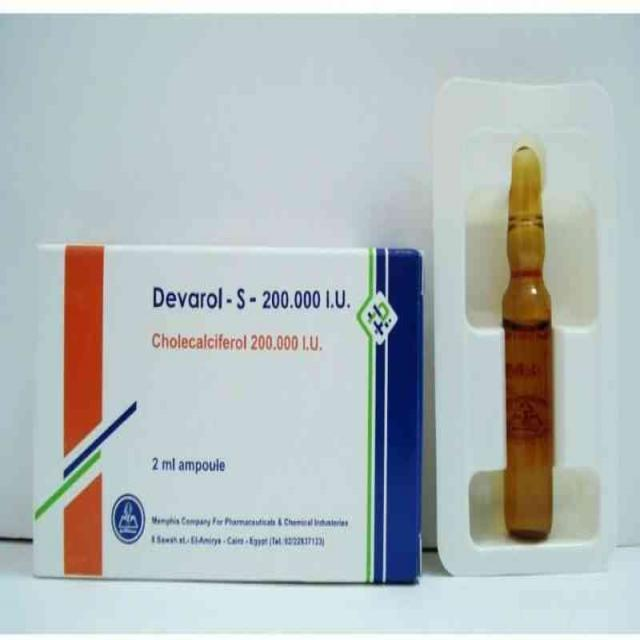drug-name: (152, 285, 246, 312)
